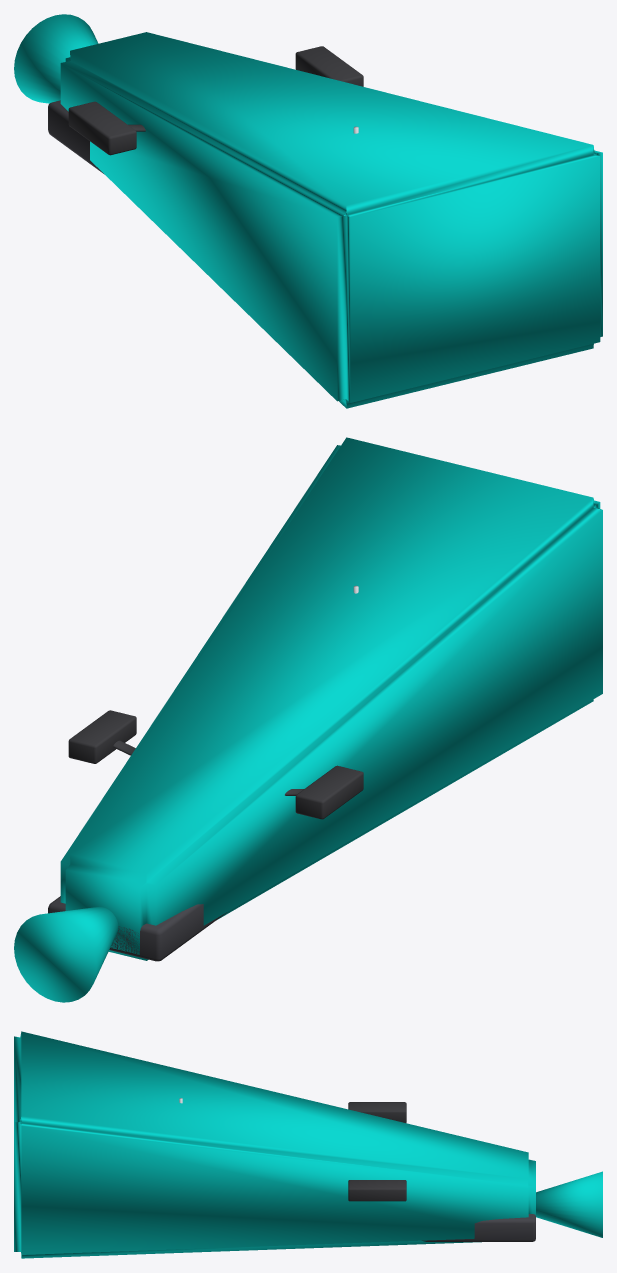
Rendered from f1_nose_undercut.glb.
3 views of the same model, one above another, from view 1: azimuth 30°, elevation 25°; view 2: azimuth 150°, elevation 25°; view 3: azimuth 270°, elevation 25° (orthographic). The views are drawn at different scales.
Parts seen in each view (by area): view 1: F1_Nose_Undercut; view 2: F1_Nose_Undercut; view 3: F1_Nose_Undercut.
Boxes of the visible parts, box(x1,y1,x2,y2) form: F1_Nose_Undercut: box(14, 14, 602, 408); F1_Nose_Undercut: box(14, 437, 602, 1002); F1_Nose_Undercut: box(14, 1031, 602, 1258).
Size of the model in its own units: 0.5151 by 0.4265 by 1.41.
